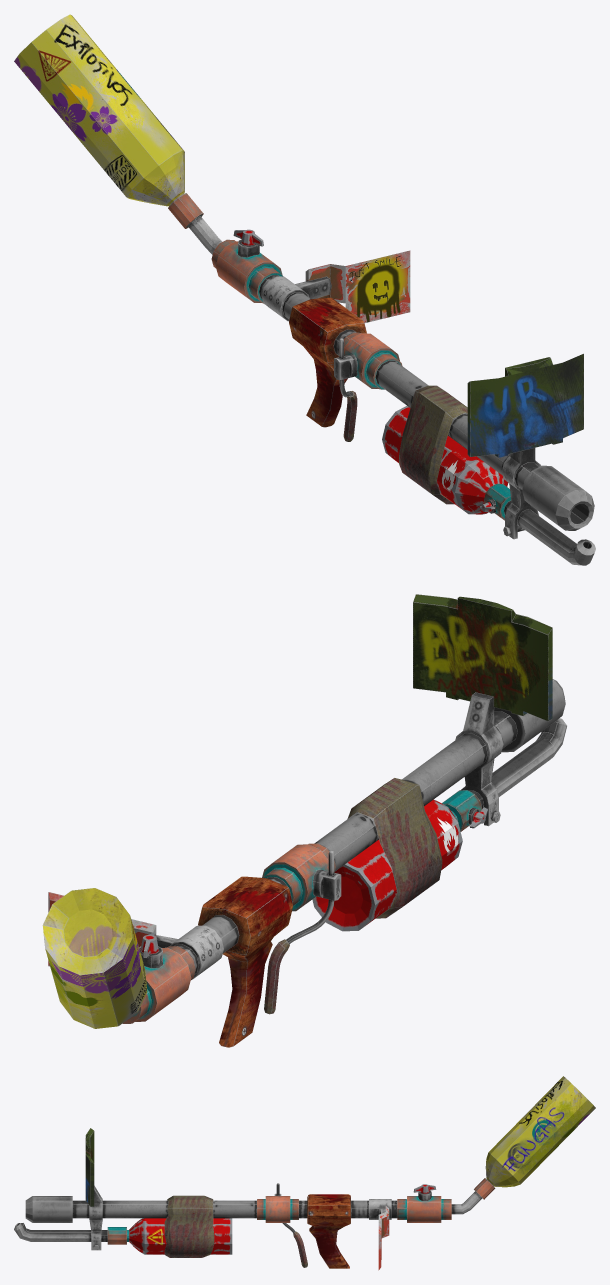
Rendered from flamer.glb.
3 views of the same model, one above another, from view 1: azimuth 30°, elevation 25°; view 2: azimuth 150°, elevation 25°; view 3: azimuth 270°, elevation 25° (orthographic). The views are drawn at different scales.
Visible parts, largest first — view 1: Cylinder001; view 2: Cylinder001; view 3: Cylinder001.
Boxes of the visible parts, x1=… form: Cylinder001: x1=14, y1=14, x2=595, y2=565; Cylinder001: x1=42, y1=594, x2=566, y2=1047; Cylinder001: x1=14, y1=1076, x2=595, y2=1270.
Bounding box in the file's own units: 53.51 × 62.35 × 195.
9 materials, 9 textured.
